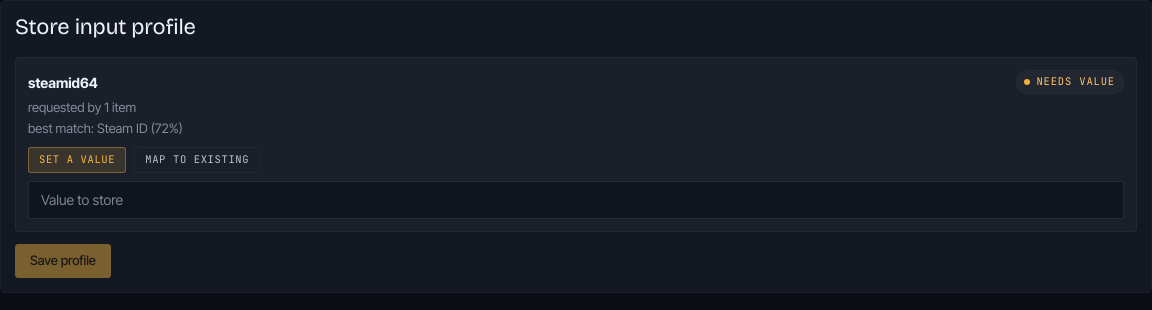
StoreProfileEditor › prefills the canonical picker with the server's best match when switching to alias mode
Expected: the text with test id "profile-bestmatch-steamid64" reads "best match: Steam ID (72%)", x1=28 y1=120 x2=183 y2=136
Click the button with test id "profile-mode-alias-steamid64".
click(197, 160)  # box x1=134 y1=147 x2=260 y2=173
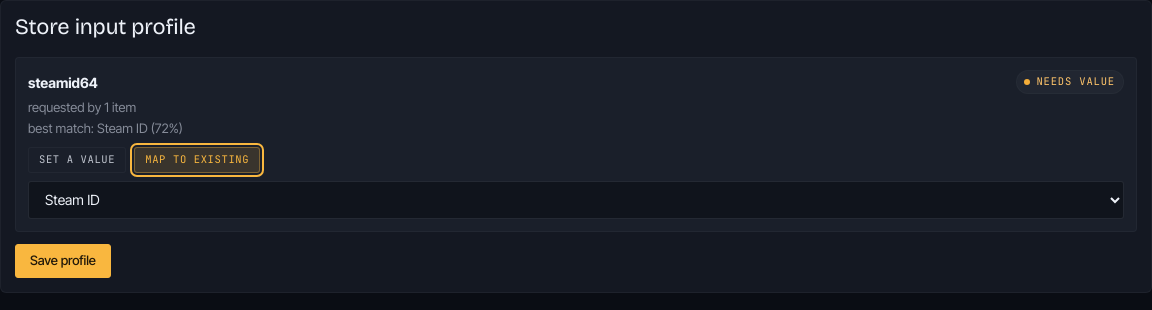
Expected: the dropdown with test id "profile-canonical-steamid64" shows "Steam ID", x1=28 y1=181 x2=1124 y2=219
